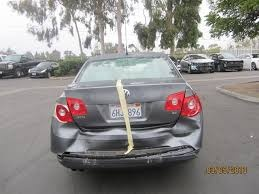Dent: (50, 108, 201, 167)
